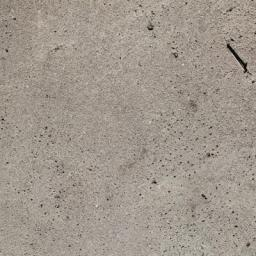FOD: (224, 41, 252, 77)
